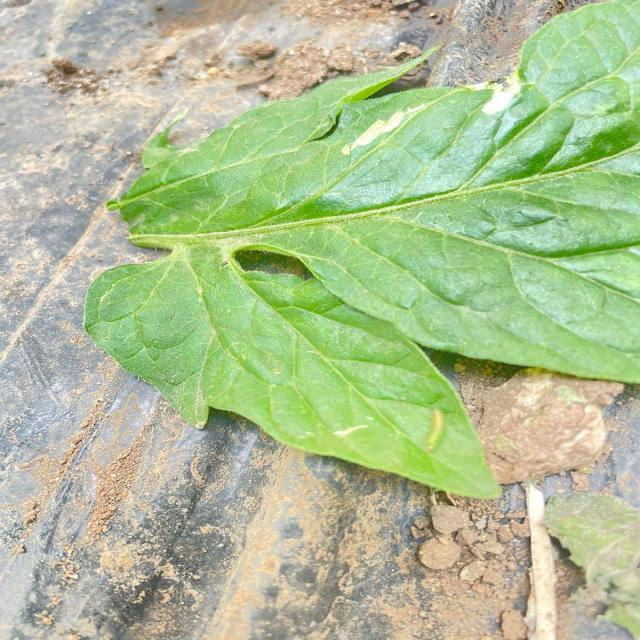Tuta absoluta: (340, 95, 420, 163), (473, 69, 528, 121)
